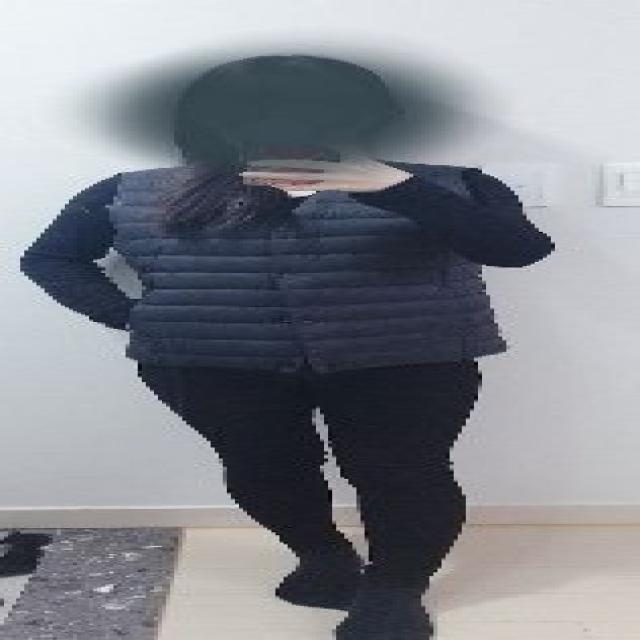denimpants: (133, 357, 480, 592)
padding: (107, 162, 512, 370)
